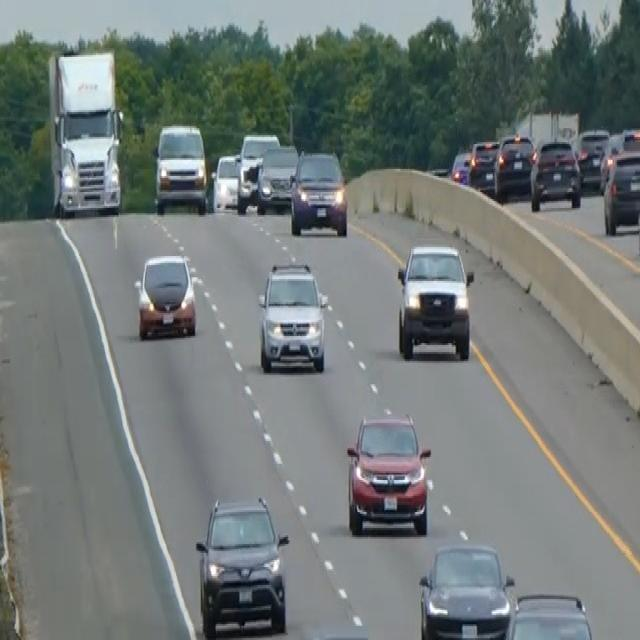car: (194, 492, 290, 636), (345, 409, 431, 537), (395, 240, 474, 361), (418, 539, 514, 638), (257, 260, 328, 374), (133, 250, 197, 340), (289, 148, 348, 236), (503, 590, 594, 638), (529, 137, 582, 211), (236, 130, 279, 210), (602, 146, 639, 234), (255, 142, 299, 214), (493, 132, 536, 199), (599, 128, 639, 190), (575, 126, 609, 187), (210, 151, 241, 212), (468, 137, 499, 192), (450, 147, 472, 185)
lorry: (46, 46, 124, 217)
minivan: (152, 121, 208, 213)
